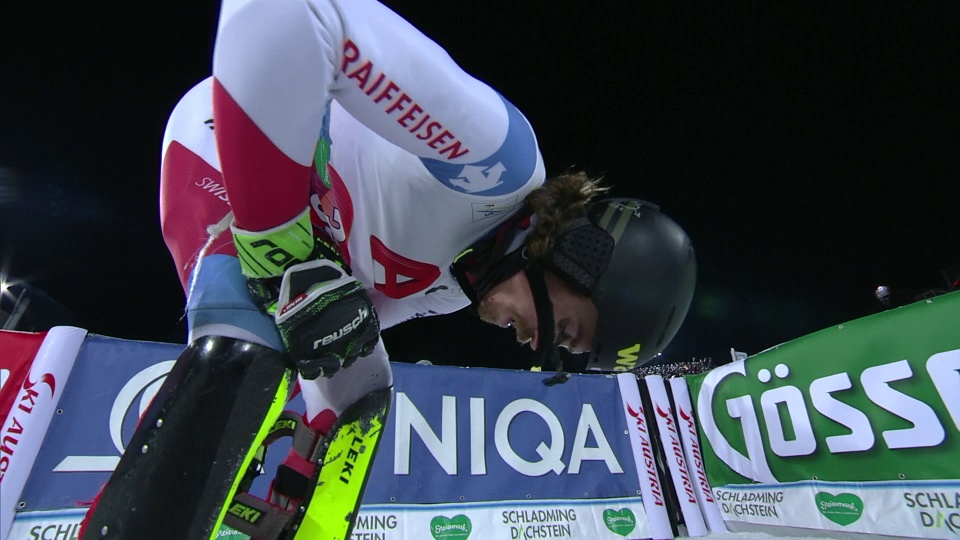a1: (358, 242, 446, 307)
goesser: (687, 346, 950, 500)
schladming: (497, 507, 574, 540), (718, 487, 795, 520)
steiermark: (813, 490, 868, 528), (600, 506, 642, 539), (428, 513, 476, 539)
uniqa: (74, 349, 610, 480)
